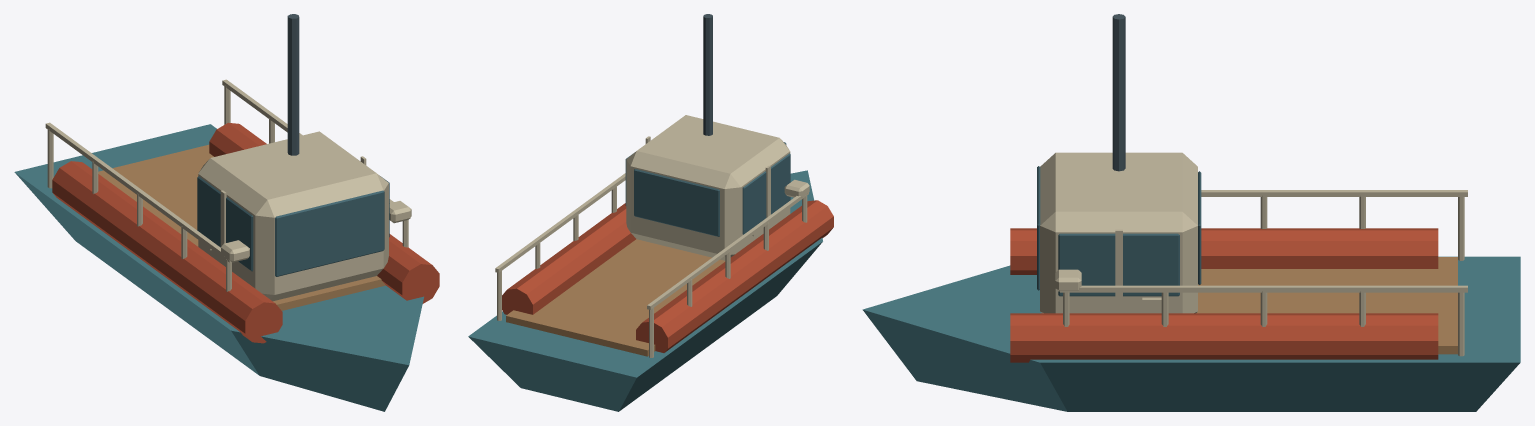
The model's file is vessel_rescue.glb.
3 renders of one model, left to right at view 1: azimuth 30°, elevation 25°; view 2: azimuth 150°, elevation 25°; view 3: azimuth 270°, elevation 25°, orthographic. The views are drawn at different scales.
Parts seen in each view (by area): view 1: vessel_rescue; view 2: vessel_rescue; view 3: vessel_rescue.
Boxes of the visible parts, bbox=[...] form: vessel_rescue: bbox=[14, 14, 439, 411]; vessel_rescue: bbox=[468, 14, 833, 411]; vessel_rescue: bbox=[862, 14, 1520, 411].
Size of the model in its own units: 2.1 by 3.36 by 5.5.
